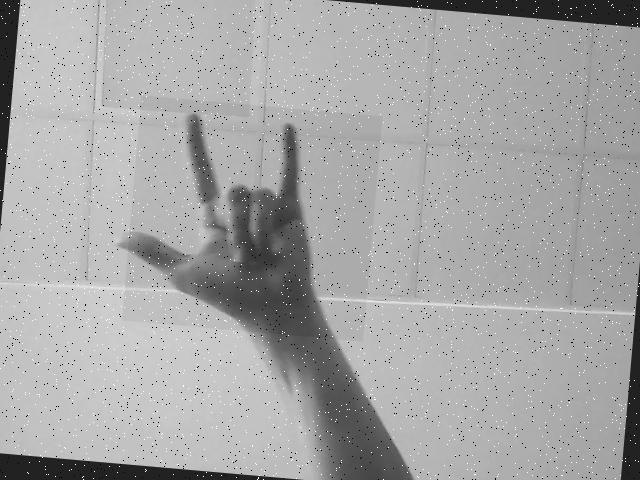I_Love_You: (121, 95, 382, 341)
